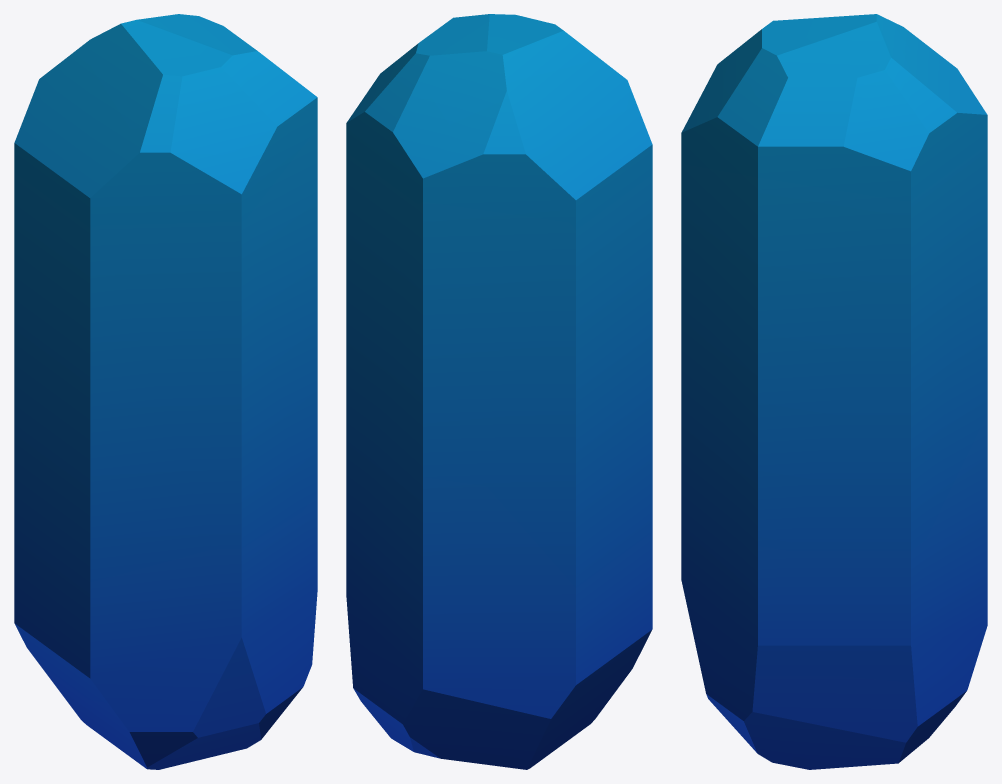
Rendered from Crystal_4.glb.
3 views of the same model, side by side, from view 1: azimuth 30°, elevation 25°; view 2: azimuth 150°, elevation 25°; view 3: azimuth 270°, elevation 25° (orthographic).
Parts seen in each view (by area): view 1: crystal_15; view 2: crystal_15; view 3: crystal_15.
Boxes of the visible parts, box(x1,y1,x2,y2) form: crystal_15: box(14, 14, 317, 769); crystal_15: box(346, 14, 652, 769); crystal_15: box(681, 14, 987, 769).
Bounding box in the file's own units: 1.73 × 5.19 × 2.
